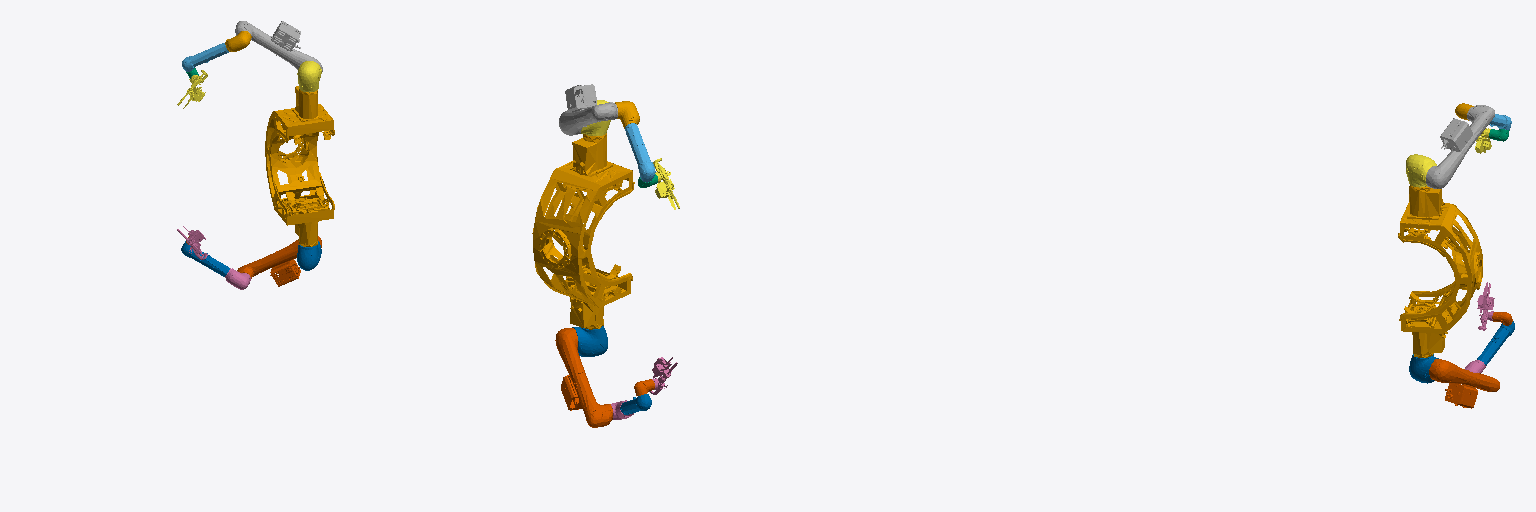
robot.urdf — robot:
<?xml version="1.0" ?>
<!-- =================================================================================== -->
<!-- |    This document was autogenerated by xacro from robot.urdf.xacro        | -->
<!-- |    EDITING THIS FILE BY HAND IS NOT RECOMMENDED                                 | -->
<!-- =================================================================================== -->
<robot name="robot" version="1.0">
  <joint name="arm2-wrist1_link_joint" type="revolute">
    <limit lower="-3.14000" upper="3.14000" effort="0.00000" velocity="0.00000"/>
    <origin rpy="0.00000 0.00000 0.00000" xyz="-0.00610 -0.20361 1.72510"/>
    <parent link="base_link"/>
    <child link="arm1-wrist1_link"/>
    <axis xyz="0.00000 0.00000 1.00000"/>
  </joint>
  <joint name="arm2-lower-arm_link_joint" type="revolute">
    <limit lower="-3.14000" upper="0.69778" effort="0.00000" velocity="0.00000"/>
    <origin rpy="0.00000 0.00000 0.00000" xyz="0.20740 0.24927 0.19751"/>
    <parent link="arm1-wrist1_link"/>
    <child link="arm1-lower-arm_link"/>
    <axis xyz="-0.64380 -0.76499 -0.01767"/>
  </joint>
  <joint name="arm1-wrist3_link_joint" type="revolute">
    <limit lower="-6.28000" upper="6.28000" effort="0.00000" velocity="0.00000"/>
    <origin rpy="-0.00000 -0.00000 0.00000" xyz="-0.58435 0.49341 0.55420"/>
    <parent link="arm2-upper-arm_link"/>
    <child link="arm2-wrist3_link"/>
    <axis xyz="-0.45622 0.27878 -0.84507"/>
  </joint>
  <joint name="arm1-tool_link_joint" type="revolute">
    <limit lower="-3.14000" upper="3.14000" effort="0.00000" velocity="0.00000"/>
    <origin rpy="0.00000 0.00000 -0.00000" xyz="-0.01782 -0.27490 0.10498"/>
    <parent link="arm2-wrist3_link"/>
    <child link="arm2-tool_link"/>
    <axis xyz="0.36743 0.92929 0.03775"/>
  </joint>
  <joint name="arm2-wrist2_link_joint" type="revolute">
    <limit lower="-1.04667" upper="4.18667" effort="0.00000" velocity="0.00000"/>
    <origin rpy="0.00000 0.00000 0.00000" xyz="-1.14014 0.65820 0.73462"/>
    <parent link="arm1-lower-arm_link"/>
    <child link="arm1-wrist2_link"/>
    <axis xyz="-0.64380 -0.76499 -0.01767"/>
  </joint>
  <joint name="arm2-upper-arm_link_joint" type="revolute">
    <limit lower="-3.14000" upper="3.14000" effort="0.00000" velocity="0.00000"/>
    <origin rpy="0.00000 0.00000 0.00000" xyz="-0.31274 0.11475 -0.17261"/>
    <parent link="arm1-wrist2_link"/>
    <child link="arm1-upper-arm_link"/>
    <axis xyz="0.67366 -0.55817 0.48439"/>
  </joint>
  <joint name="arm2-wrist3_link_joint" type="revolute">
    <limit lower="-6.28000" upper="6.28000" effort="0.00000" velocity="0.00000"/>
    <origin rpy="0.00000 0.00000 -0.00000" xyz="-0.58191 0.50342 -0.54785"/>
    <parent link="arm1-upper-arm_link"/>
    <child link="arm1-wrist3_link"/>
    <axis xyz="-0.46355 0.18542 0.86645"/>
  </joint>
  <joint name="arm2-tool_link_joint" type="revolute">
    <limit lower="-3.14000" upper="3.14000" effort="0.00000" velocity="0.00000"/>
    <origin rpy="0.00000 0.00000 0.00000" xyz="-0.02087 -0.27051 -0.10962"/>
    <parent link="arm1-wrist3_link"/>
    <child link="arm1-tool_link"/>
    <axis xyz="0.34994 0.93677 -0.00136"/>
  </joint>
  <joint name="arm1-wrist1_link_joint" type="revolute">
    <limit lower="-3.14000" upper="3.14000" effort="0.00000" velocity="0.00000"/>
    <origin rpy="0.00000 0.00000 0.00000" xyz="0.01807 -0.14331 -1.71436"/>
    <parent link="base_link"/>
    <child link="arm2-wrist1_link"/>
    <axis xyz="0.01446 -0.00936 0.99985"/>
  </joint>
  <joint name="arm1-lower-arm_link_joint" type="revolute">
    <limit lower="-3.14000" upper="0.69778" effort="0.00000" velocity="0.00000"/>
    <origin rpy="-0.00000 0.00000 -0.00000" xyz="0.20984 0.25317 -0.18652"/>
    <parent link="arm2-wrist1_link"/>
    <child link="arm2-lower-arm_link"/>
    <axis xyz="-0.63144 -0.77543 0.00000"/>
  </joint>
  <joint name="arm1-wrist2_link_joint" type="revolute">
    <limit lower="-1.04667" upper="4.18667" effort="0.00000" velocity="0.00000"/>
    <origin rpy="0.00000 0.00000 0.00000" xyz="-1.12976 0.68237 -0.72754"/>
    <parent link="arm2-lower-arm_link"/>
    <child link="arm2-wrist2_link"/>
    <axis xyz="-0.63144 -0.77543 0.00000"/>
  </joint>
  <joint name="arm1-upper-arm_link_joint" type="revolute">
    <limit lower="-3.14000" upper="3.14000" effort="0.00000" velocity="0.00000"/>
    <origin rpy="-0.00000 0.00000 0.00000" xyz="-0.32092 0.09888 0.17334"/>
    <parent link="arm2-wrist2_link"/>
    <child link="arm2-upper-arm_link"/>
    <axis xyz="0.68742 -0.54399 -0.48116"/>
  </joint>
    <joint name="base_jointA" type="fixed">
    <origin rpy="-3.14159 -0.00000 -1.74533" xyz="0.00000 0.00000 -1.3000"/>
    <parent link="base_link"/>
    <child link="base_frameA_link"/>
  </joint>
  <joint name="base_jointB" type="fixed">
    <origin rpy="0.00000 0.00000 -1.74533" xyz="0.00000 0.00000 1.3000"/>
    <parent link="base_link"/>
    <child link="base_frameB_link"/>
  </joint>
  <link name="base_link">
    <visual name="base">
      <material name="None"/>
      <origin rpy="0.00000 0.00000 0.00000" xyz="0.00000 0.00000 0.00000"/>
      <geometry>
        <mesh filename="../meshes/base_link.stl" scale="1.00000 1.00000 1.00000"/>
      </geometry>
    </visual>
  </link>
  <link name="base_frameA_link"/>
  <link name="base_frameB_link"/>
  <link name="arm1-wrist1_link">
    <visual name="arm1-wrist1">
      <material name="None"/>
      <origin rpy="0.00000 0.00000 0.00000" xyz="0.00000 0.00000 0.00000"/>
      <geometry>
        <mesh filename="../meshes/arm1-wrist1_link.stl" scale="1.00000 1.00000 1.00000"/>
      </geometry>
    </visual>
  </link>
  <link name="arm2-upper-arm_link">
    <visual name="arm2-upper-arm">
      <material name="None"/>
      <origin rpy="0.00000 0.00000 0.00000" xyz="0.00012 0.00000 0.00000"/>
      <geometry>
        <mesh filename="../meshes/arm2-upper-arm_link.stl" scale="1.00000 1.00000 1.00000"/>
      </geometry>
    </visual>
  </link>
  <link name="arm2-wrist3_link">
    <visual name="arm2-wrist3">
      <material name="None"/>
      <origin rpy="0.00000 0.00000 -0.00000" xyz="0.00012 0.00000 0.00000"/>
      <geometry>
        <mesh filename="../meshes/arm2-wrist3_link.stl" scale="1.00000 1.00000 1.00000"/>
      </geometry>
    </visual>
  </link>
  <link name="arm2-tool_link">
    <visual name="arm2-tool">
      <material name="None"/>
      <origin rpy="-0.00000 0.00000 0.00000" xyz="0.00012 -0.00024 0.00000"/>
      <geometry>
        <mesh filename="../meshes/arm2-tool_link.stl" scale="1.00000 1.00000 1.00000"/>
      </geometry>
    </visual>
  </link>
  <link name="arm1-lower-arm_link">
    <visual name="arm1-lower-arm">
      <material name="None"/>
      <origin rpy="0.00000 0.00000 0.00000" xyz="0.00000 0.00024 0.00000"/>
      <geometry>
        <mesh filename="../meshes/arm1-lower-arm_link.stl" scale="1.00000 1.00000 1.00000"/>
      </geometry>
    </visual>
  </link>
  <link name="arm1-wrist2_link">
    <visual name="arm1-wrist2">
      <material name="None"/>
      <origin rpy="0.00000 0.00000 -0.00000" xyz="0.00000 0.00000 0.00000"/>
      <geometry>
        <mesh filename="../meshes/arm1-wrist2_link.stl" scale="1.00000 1.00000 1.00000"/>
      </geometry>
    </visual>
  </link>
  <link name="arm1-upper-arm_link">
    <visual name="arm1-upper-arm">
      <material name="None"/>
      <origin rpy="0.00000 0.00000 -0.00000" xyz="0.00000 0.00000 0.00000"/>
      <geometry>
        <mesh filename="../meshes/arm1-upper-arm_link.stl" scale="1.00000 1.00000 1.00000"/>
      </geometry>
    </visual>
  </link>
  <link name="arm1-wrist3_link">
    <visual name="arm1-wrist3">
      <material name="None"/>
      <origin rpy="0.00000 0.00000 0.00000" xyz="-0.00012 0.00024 0.00000"/>
      <geometry>
        <mesh filename="../meshes/arm1-wrist3_link.stl" scale="1.00000 1.00000 1.00000"/>
      </geometry>
    </visual>
  </link>
  <link name="arm1-tool_link">
    <visual name="arm1-tool">
      <material name="None"/>
      <origin rpy="0.00000 0.00000 0.00000" xyz="0.00000 0.00024 0.00000"/>
      <geometry>
        <mesh filename="../meshes/arm1-tool_link.stl" scale="1.00000 1.00000 1.00000"/>
      </geometry>
    </visual>
  </link>
  <link name="arm2-wrist1_link">
    <visual name="arm2-wrist1">
      <material name="None"/>
      <origin rpy="0.00000 0.00000 0.00000" xyz="0.00000 0.00000 0.00000"/>
      <geometry>
        <mesh filename="../meshes/arm2-wrist1_link.stl" scale="1.00000 1.00000 1.00000"/>
      </geometry>
    </visual>
  </link>
  <link name="arm2-lower-arm_link">
    <visual name="arm2-lower-arm">
      <material name="None"/>
      <origin rpy="0.00000 0.00000 0.00000" xyz="0.00012 0.00000 0.00024"/>
      <geometry>
        <mesh filename="../meshes/arm2-lower-arm_link.stl" scale="1.00000 1.00000 1.00000"/>
      </geometry>
    </visual>
  </link>
  <link name="arm2-wrist2_link">
    <visual name="arm2-wrist2">
      <material name="None"/>
      <origin rpy="0.00000 0.00000 0.00000" xyz="0.00000 0.00000 0.00000"/>
      <geometry>
        <mesh filename="../meshes/arm2-wrist2_link.stl" scale="1.00000 1.00000 1.00000"/>
      </geometry>
    </visual>
  </link>
</robot>

--- What the picture shows (computed from the rendered views, not written in the file) ---
3 views of the same robot in one strip: view 1: azimuth 30°, elevation 25°; view 2: azimuth 150°, elevation 25°; view 3: azimuth 270°, elevation 25° (orthographic).
Model robot with 15 links and 14 joints (12 revolute, 2 fixed), rooted at base_link, posed every joint at zero.
Visible links, largest first — view 1: base_link, arm1-lower-arm_link, arm2-lower-arm_link, arm1-wrist1_link, arm1-upper-arm_link; view 2: base_link, arm2-lower-arm_link, arm1-lower-arm_link, arm1-upper-arm_link, arm2-wrist1_link, arm1-tool_link; view 3: base_link, arm1-lower-arm_link, arm2-lower-arm_link, arm1-wrist1_link, arm2-upper-arm_link, arm2-wrist1_link.
Boxes of the visible links, <box> form: base_link: <box>265,86,334,246</box>; arm1-lower-arm_link: <box>235,21,322,71</box>; arm2-lower-arm_link: <box>237,236,321,286</box>; arm1-wrist1_link: <box>297,61,321,92</box>; arm1-upper-arm_link: <box>182,43,228,71</box>; base_link: <box>532,133,634,329</box>; arm2-lower-arm_link: <box>555,328,612,427</box>; arm1-lower-arm_link: <box>559,84,617,135</box>; arm1-upper-arm_link: <box>625,123,655,182</box>; arm2-wrist1_link: <box>572,326,607,356</box>; arm1-tool_link: <box>653,158,679,209</box>; base_link: <box>1398,185,1482,357</box>; arm1-lower-arm_link: <box>1426,105,1494,188</box>; arm2-lower-arm_link: <box>1429,359,1499,408</box>; arm1-wrist1_link: <box>1406,154,1436,187</box>; arm2-upper-arm_link: <box>1477,321,1514,365</box>; arm2-wrist1_link: <box>1409,354,1438,383</box>.
Size in the robot's own frame: 4.24 by 8.5 by 6.32 metres.
Meshes: 13 distinct files referenced, 13 mesh visuals loaded (13 binary STL).